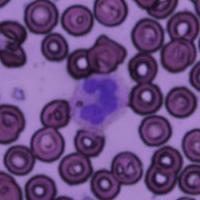N: (68, 73, 130, 132)
